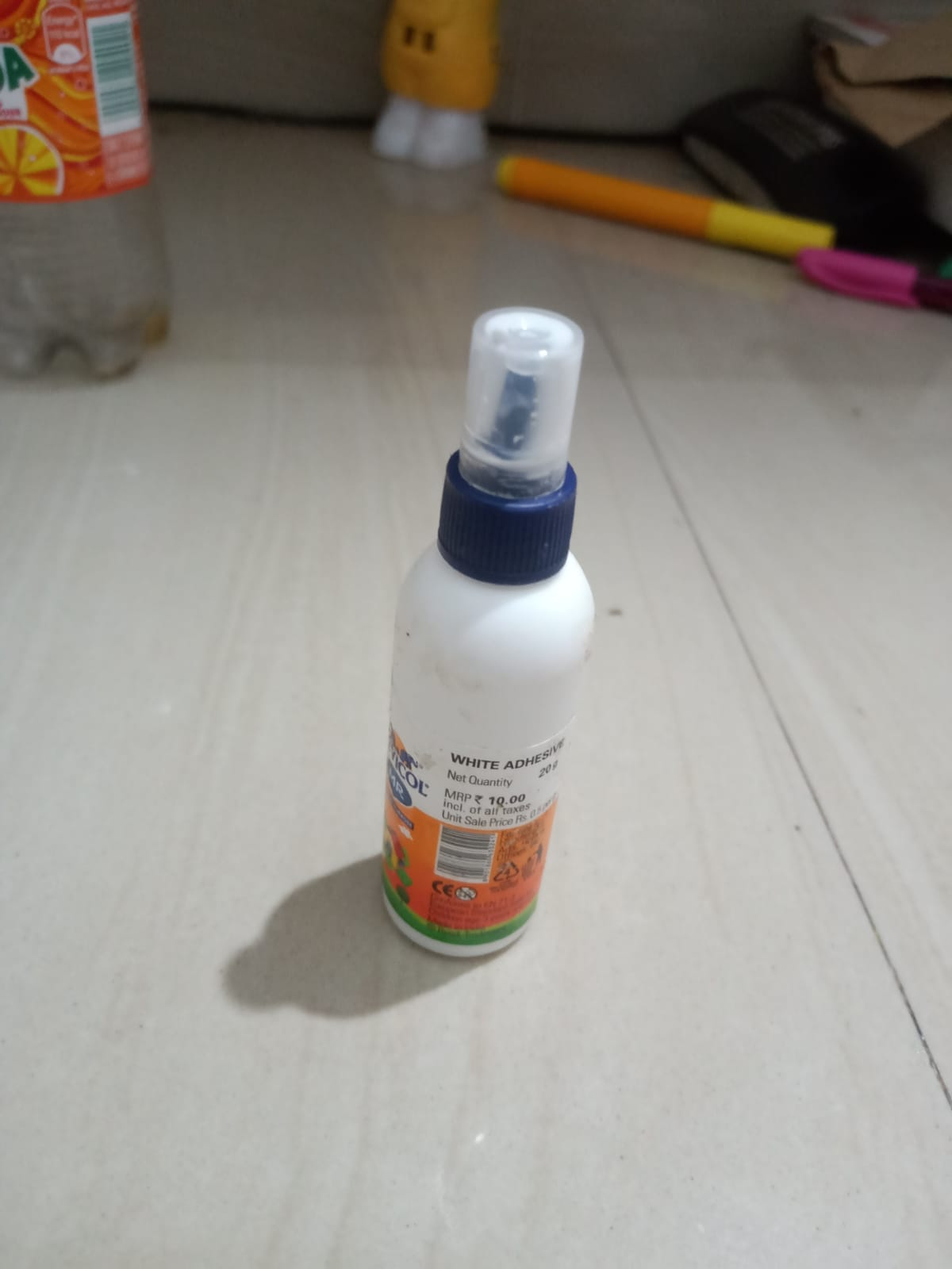plastic: (326, 289, 615, 977)
